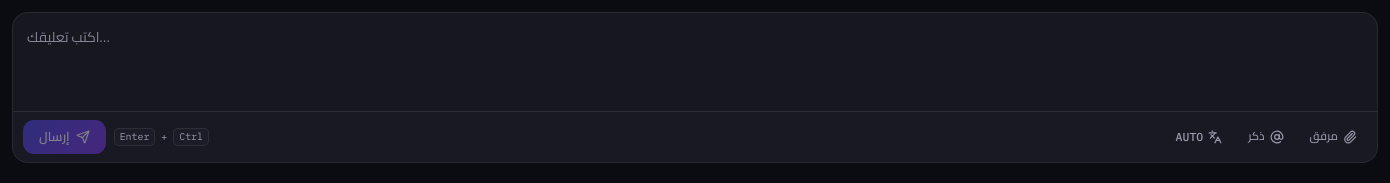
Test case: CommentComposer — mentions › paints a resolved mention and leaves the rest of the line alone
Type "مرحباً @Sara Khan راجعي" into the text box at coordinates (695, 62), box [13,13,1377,111]
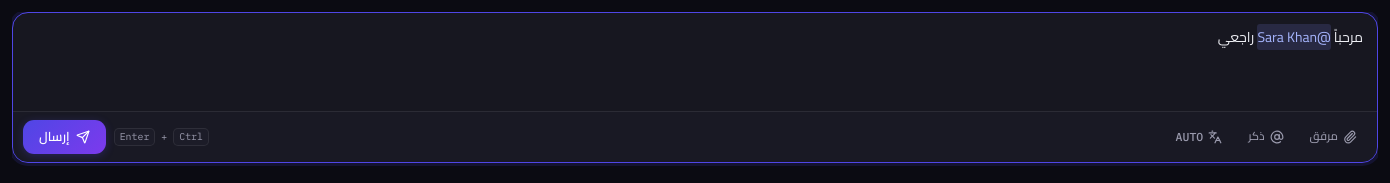
Expected: the number of elements with class "brm-mention" is 1, [1257,24,1331,50]
Expected: the text with class "brm-mention" reads "@Sara Khan", [1257,24,1331,50]
